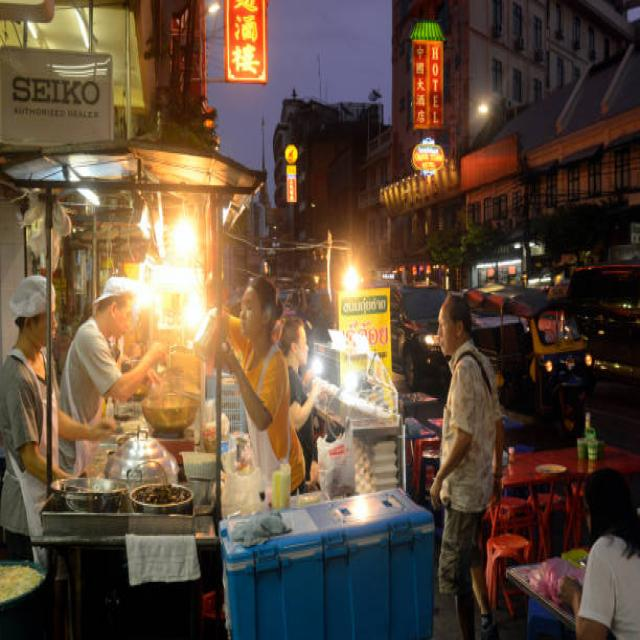Emperan: (0, 111, 276, 638)
